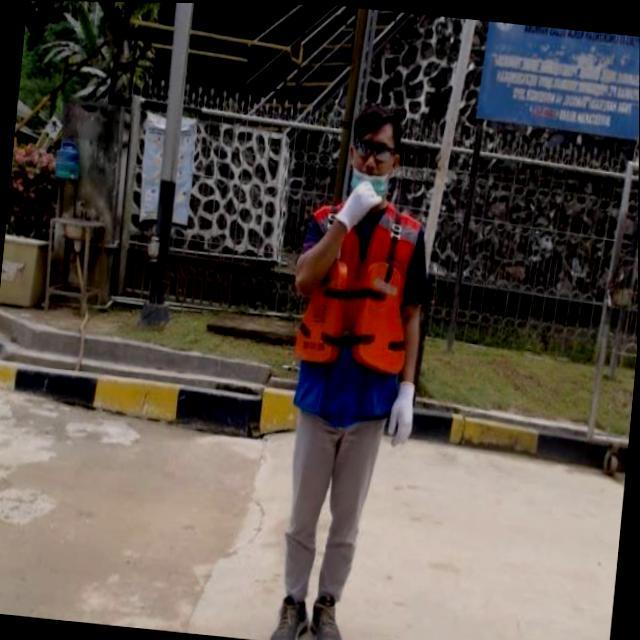goggles_on: (352, 135, 399, 164)
